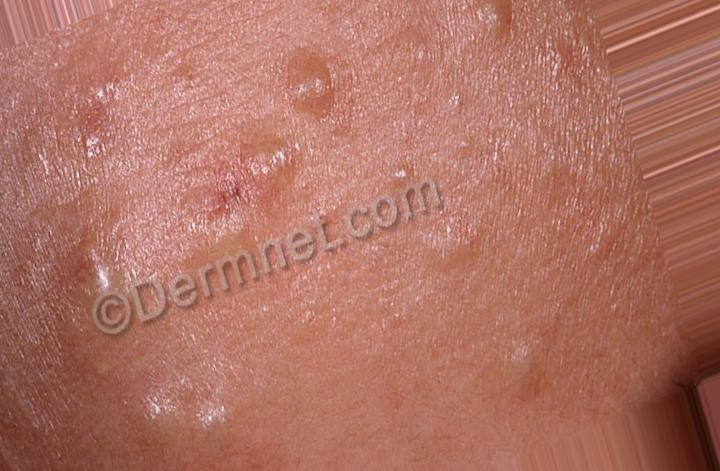Acne: (53, 4, 569, 431)
